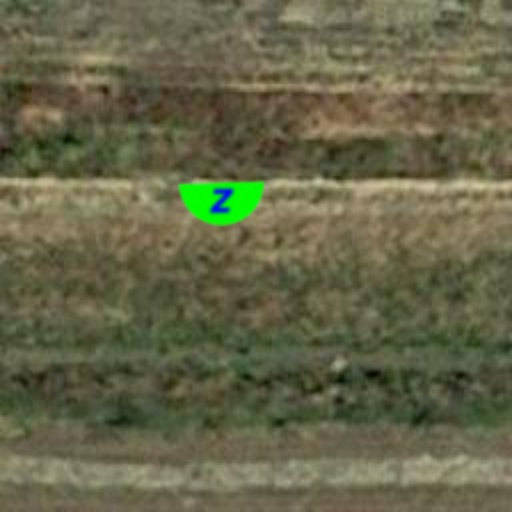semicircle: (178, 160, 266, 248)
